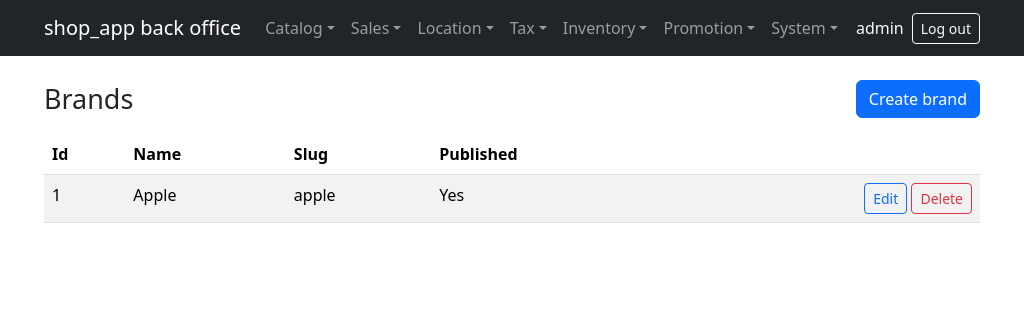
Brands list › shows the server message when the brand is in use
Click the button "Delete" at (942, 198), box [911,183,972,214]
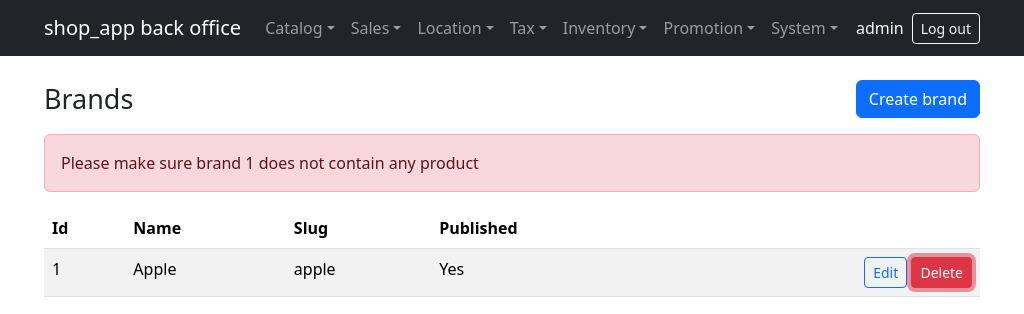
Expected: the text "Apple" is shown, [125,248,286,296]
Expected: the message reads "Please make sure brand 1 does not contain any product", [61,152,479,174]
